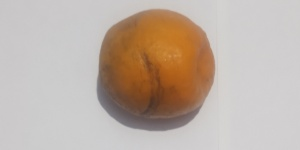BAD: (98, 5, 216, 123)
